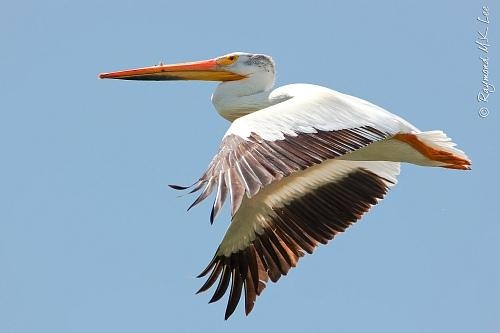bird: (96, 51, 465, 318)
